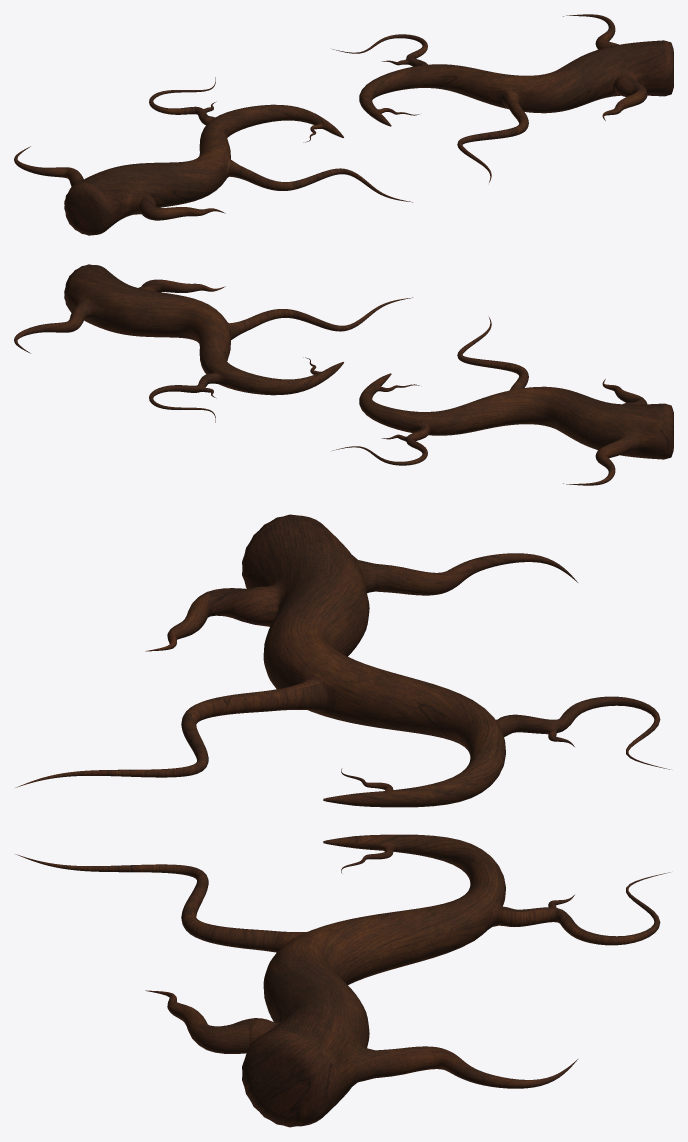
File: roots.fbx
3 renders of one model, top to bottom at view 1: azimuth 30°, elevation 25°; view 2: azimuth 150°, elevation 25°; view 3: azimuth 270°, elevation 25°, orthographic. The views are drawn at different scales.
Visible parts, largest first — view 1: pCylinder1, pCylinder2; view 2: pCylinder2, pCylinder1; view 3: pCylinder2, pCylinder1.
Part boxes in pixels (x1,y1,x2,y2): pCylinder1: [332, 14, 673, 182]; pCylinder2: [14, 77, 412, 235]; pCylinder2: [332, 317, 673, 485]; pCylinder1: [14, 264, 412, 422]; pCylinder2: [15, 514, 669, 807]; pCylinder1: [15, 834, 669, 1127].
Bounding box in the file's own units: 785 × 62.94 × 404.
